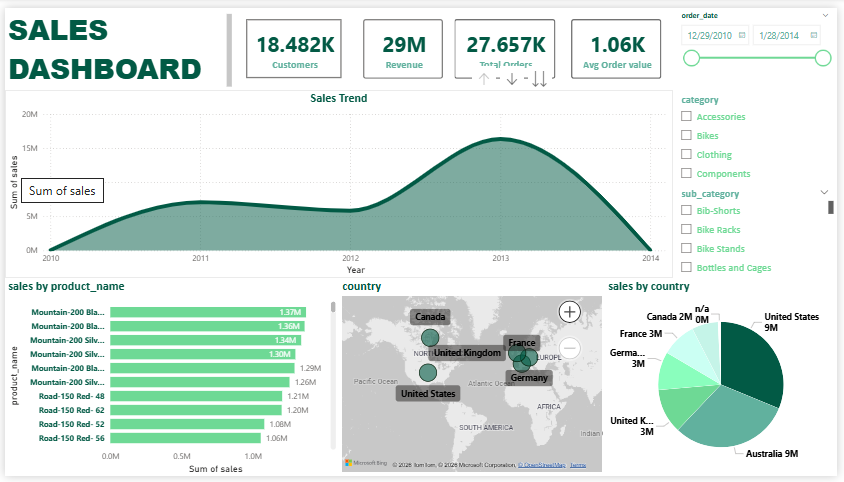

This screenshot's page, from the dashboard's own definition file:
{"tool":"powerbi","page":{"name":"Page 1","canvas":[1280,720],"ordinal":0},"visuals":[{"type":"map","fields":{"Category":["gold dim_customers.country"]},"box":[514,416,410,304],"z":0},{"type":"barChart","title":"sales by product_name","fields":{"Y":["Sum(gold fact_sales.sales)"],"Category":["gold dim_products.product_name"]},"box":[0,416,514,306],"z":1000},{"type":"cardVisual","fields":{"Data":["Count(gold fact_sales.customer_key)"]},"box":[353.7,0,181.5,125.9],"z":2000},{"type":"cardVisual","fields":{"Data":["Count(gold fact_sales.order_number)"]},"box":[673.8,0,190,126.2],"z":3000},{"type":"cardVisual","fields":{"Data":["Sum(gold fact_sales.sales)"]},"box":[533.8,0,157.5,126.2],"z":4000},{"type":"lineChart","title":"Sales Trend","fields":{"Y":["Sum(gold fact_sales.sales)"],"Category":["gold fact_sales.order_date.Variation.Date Hierarchy.Year","gold fact_sales.order_date.Variation.Date Hierarchy.Quarter","gold fact_sales.order_date.Variation.Date Hierarchy.Month","gold fact_sales.order_date.Variation.Date Hierarchy.Day"]},"box":[0,126,1028,290],"z":5000},{"type":"slicer","fields":{"Values":["gold dim_products.category"]},"box":[1027.5,126.2,252.5,146.2],"z":6000},{"type":"slicer","fields":{"Values":["gold dim_products.sub_category"]},"box":[1028.3,270,251.7,145],"z":7000},{"type":"slicer","fields":{"Values":["gold fact_sales.order_date"]},"box":[1027.8,0,251.9,125.9],"z":8000},{"type":"cardVisual","fields":{"Data":["gold fact_sales.Avg Order Price"]},"box":[853.8,0,173.8,126.2],"z":9001},{"type":"pieChart","title":"sales by country","fields":{"Y":["Sum(gold fact_sales.sales)"],"Category":["gold dim_customers.country"]},"box":[923.3,415,356.7,305],"z":9002},{"type":"textbox","box":[0,0,354,126],"z":9003}]}

Visuals, with their boxes in screenshot pixels (x1, y1, x2, y2), scaled from the page's 1280x720 canvas onto the 844x482 screenshot:
map - gold dim_customers.country: rect(339, 278, 609, 481)
"sales by product_name" barChart: rect(0, 278, 339, 481)
cardVisual - Count(gold fact_sales.customer_key): rect(233, 0, 353, 84)
cardVisual - Count(gold fact_sales.order_number): rect(444, 0, 570, 84)
cardVisual - Sum(gold fact_sales.sales): rect(352, 0, 456, 84)
"Sales Trend" lineChart: rect(0, 84, 678, 278)
slicer - gold dim_products.category: rect(678, 84, 843, 182)
slicer - gold dim_products.sub_category: rect(678, 181, 843, 278)
slicer - gold fact_sales.order_date: rect(678, 0, 843, 84)
cardVisual - gold fact_sales.Avg Order Price: rect(563, 0, 678, 84)
"sales by country" pieChart: rect(609, 278, 843, 481)
textbox: rect(0, 0, 233, 84)
